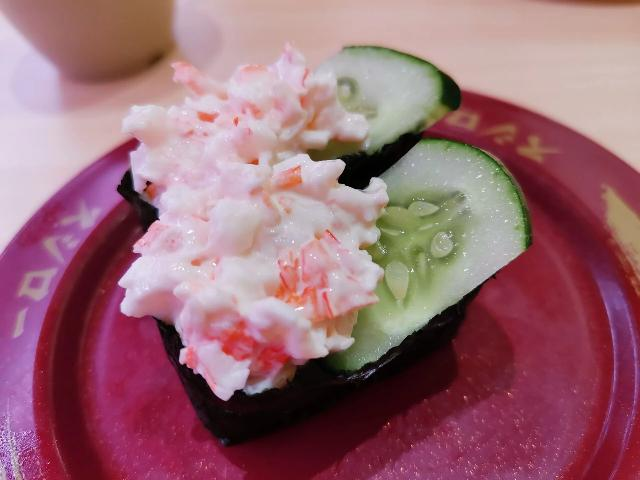janred: (28, 91, 618, 480)
